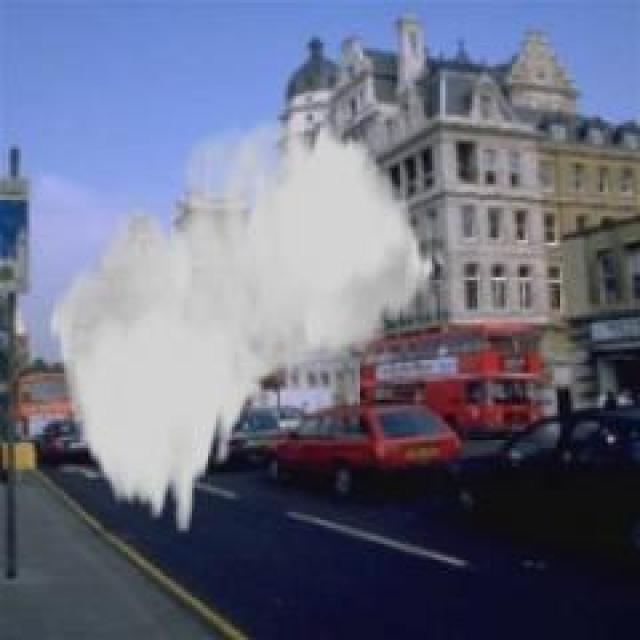smoke: (47, 108, 437, 532)
